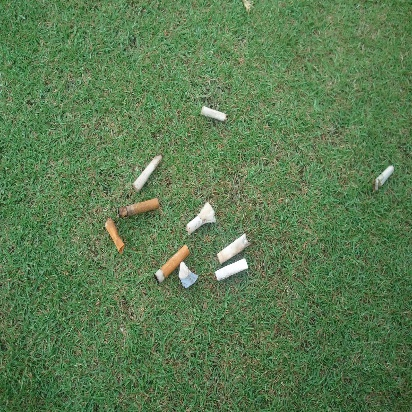cigarette: (208, 229, 252, 266), (179, 201, 223, 237), (150, 244, 192, 280), (129, 152, 162, 191), (113, 192, 162, 218), (208, 260, 255, 286), (191, 100, 231, 127), (172, 257, 201, 290), (102, 219, 127, 257), (375, 160, 399, 191)
